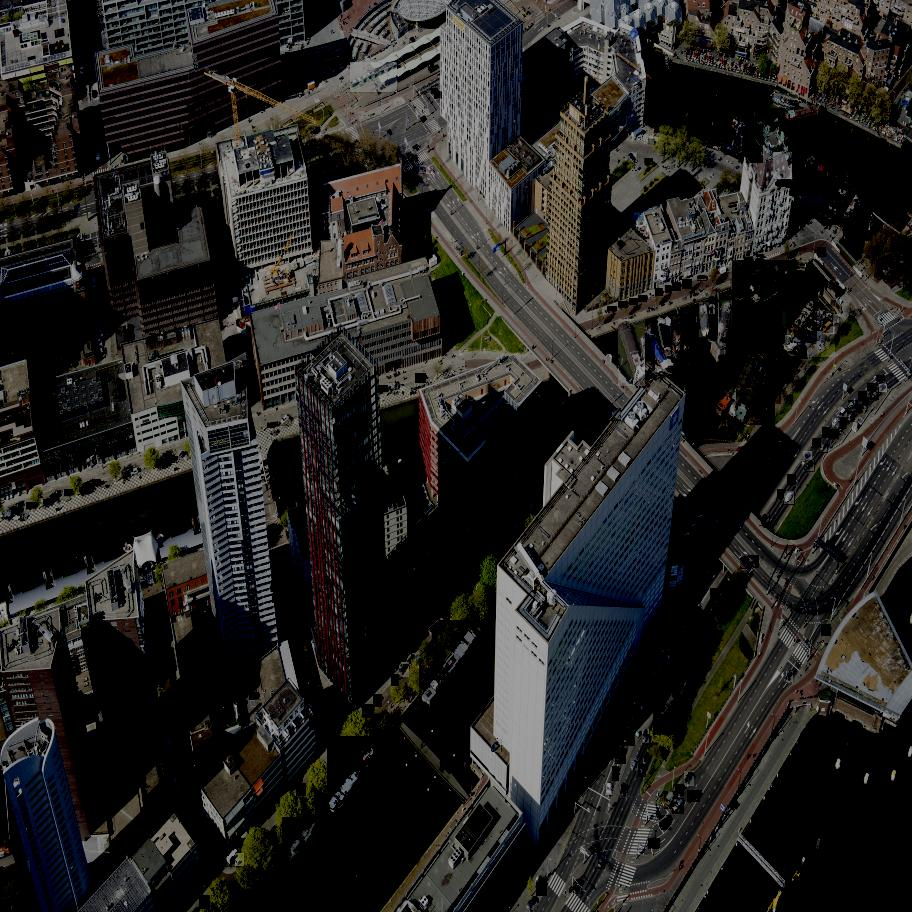large-vehicle: (349, 63, 401, 93), (652, 692, 680, 736), (686, 618, 716, 654), (429, 615, 450, 640), (271, 267, 289, 281)
ship: (417, 619, 487, 713), (325, 736, 385, 822), (712, 350, 772, 419), (736, 342, 778, 426), (731, 260, 800, 309), (780, 312, 837, 358), (635, 323, 676, 377), (280, 817, 322, 869), (618, 320, 646, 387), (821, 178, 856, 226), (787, 162, 830, 197), (786, 299, 820, 343), (785, 154, 821, 188), (657, 316, 680, 362), (751, 373, 784, 405), (797, 173, 829, 205), (832, 200, 867, 226), (785, 103, 827, 124), (680, 310, 698, 359), (705, 105, 727, 145), (744, 286, 785, 306), (718, 119, 741, 154), (639, 335, 657, 379), (746, 124, 766, 163), (718, 301, 735, 343), (776, 161, 803, 187), (671, 314, 687, 357), (773, 152, 795, 179), (711, 123, 733, 146), (769, 93, 801, 108), (699, 302, 710, 337), (732, 120, 743, 153), (738, 127, 749, 156), (805, 333, 825, 348), (708, 305, 716, 341), (382, 463, 396, 480), (398, 458, 409, 474), (386, 742, 394, 754), (413, 451, 419, 467), (689, 316, 695, 331), (781, 326, 789, 337), (309, 836, 317, 847), (406, 456, 411, 471), (784, 336, 791, 346), (818, 327, 827, 334), (385, 740, 390, 751), (871, 222, 876, 233), (799, 351, 807, 357), (782, 284, 790, 290), (802, 351, 807, 359), (726, 419, 730, 428), (697, 319, 700, 328), (673, 345, 676, 353), (729, 416, 731, 425)
small-vehicle: (225, 847, 244, 868), (670, 799, 686, 814), (658, 815, 674, 830), (622, 728, 635, 746), (309, 715, 323, 731), (664, 792, 677, 809), (526, 897, 540, 912), (615, 748, 628, 764), (686, 790, 702, 803), (199, 895, 213, 909), (683, 771, 696, 786), (191, 810, 203, 826), (573, 879, 585, 895), (536, 880, 548, 896), (399, 662, 411, 678), (201, 839, 215, 852), (200, 863, 213, 877), (362, 704, 375, 718), (608, 409, 621, 423), (784, 491, 797, 505), (491, 739, 504, 753), (823, 322, 836, 335), (281, 414, 294, 427), (748, 555, 761, 568), (235, 853, 247, 867), (647, 838, 661, 850), (642, 730, 653, 745), (759, 514, 771, 527), (688, 498, 702, 509), (422, 516, 433, 530), (407, 654, 418, 668), (443, 536, 454, 550), (437, 499, 450, 510), (148, 632, 158, 646), (164, 732, 174, 746), (181, 751, 191, 765), (666, 617, 676, 631), (129, 466, 141, 477), (296, 784, 307, 796), (630, 759, 641, 771), (633, 672, 645, 683), (805, 461, 817, 472), (821, 625, 833, 636), (740, 557, 751, 569), (675, 785, 686, 797), (391, 674, 402, 686), (415, 374, 428, 384), (415, 655, 428, 665), (23, 860, 31, 876), (373, 694, 382, 708), (598, 855, 607, 869), (620, 784, 629, 798), (633, 710, 642, 724), (589, 389, 600, 400), (885, 264, 896, 275), (811, 438, 822, 449), (392, 550, 403, 561), (787, 474, 797, 486), (711, 588, 720, 601), (26, 891, 34, 905), (180, 734, 187, 750), (289, 600, 297, 614), (308, 673, 316, 687), (821, 335, 829, 349), (67, 357, 77, 368), (35, 367, 46, 377), (178, 450, 189, 460), (744, 257, 755, 267), (247, 391, 258, 401), (777, 489, 787, 500), (803, 452, 814, 462), (817, 247, 827, 258), (822, 427, 832, 438), (840, 408, 850, 419), (148, 351, 160, 360), (847, 400, 859, 409), (829, 430, 841, 439), (396, 545, 405, 557), (105, 310, 112, 325), (26, 877, 33, 892), (172, 762, 179, 777), (0, 510, 13, 518), (194, 852, 202, 865), (682, 279, 692, 289), (876, 376, 886, 386), (858, 391, 868, 401), (870, 390, 880, 400), (82, 241, 93, 250), (29, 370, 38, 381), (79, 483, 90, 492), (94, 308, 103, 319), (98, 347, 107, 358), (672, 283, 683, 292), (190, 794, 197, 808), (612, 767, 619, 781), (173, 779, 181, 791), (377, 385, 389, 393), (639, 764, 647, 776), (670, 671, 678, 683), (786, 671, 794, 683), (689, 627, 696, 640), (54, 365, 64, 374), (629, 153, 638, 163), (882, 269, 892, 278), (243, 366, 253, 375), (820, 443, 829, 453), (832, 417, 841, 427), (64, 490, 75, 498), (97, 327, 105, 338), (458, 520, 467, 529), (647, 291, 656, 300), (862, 397, 871, 406), (655, 288, 664, 297), (867, 384, 877, 392), (167, 456, 177, 464), (250, 692, 260, 700), (848, 412, 856, 422), (840, 419, 848, 429), (92, 276, 98, 289), (149, 333, 156, 344), (171, 686, 178, 697), (152, 647, 158, 659), (879, 385, 888, 393), (77, 233, 86, 241), (434, 91, 443, 99), (856, 404, 864, 413), (299, 61, 309, 68), (390, 383, 400, 390), (145, 334, 151, 345), (606, 784, 612, 795), (711, 270, 719, 278), (323, 162, 331, 170), (419, 166, 427, 174), (411, 154, 419, 162), (426, 168, 434, 176), (97, 338, 104, 347), (833, 315, 840, 324), (155, 460, 165, 466), (272, 593, 278, 603), (903, 271, 911, 278), (757, 255, 765, 262), (178, 799, 182, 813), (645, 158, 653, 165), (128, 324, 134, 333), (197, 200, 206, 206), (159, 676, 163, 689), (297, 619, 301, 632), (26, 503, 36, 508), (181, 813, 186, 823), (92, 480, 100, 486), (431, 88, 439, 94), (268, 423, 277, 428), (608, 306, 617, 311), (618, 302, 627, 307), (629, 299, 638, 304), (638, 296, 647, 301), (242, 713, 246, 724), (288, 589, 292, 600), (12, 509, 19, 515), (91, 125, 96, 133), (44, 499, 52, 504), (94, 296, 99, 304), (97, 318, 102, 326), (698, 275, 706, 280), (80, 67, 85, 75), (161, 693, 164, 705), (271, 582, 275, 591), (666, 286, 672, 292), (286, 53, 293, 58), (169, 673, 172, 683), (305, 662, 308, 672), (247, 387, 253, 392), (312, 166, 319, 170), (335, 153, 342, 157), (161, 330, 164, 339), (98, 271, 101, 279), (243, 361, 249, 365), (97, 154, 100, 161), (340, 167, 347, 170), (93, 90, 96, 96), (90, 144, 92, 152)
